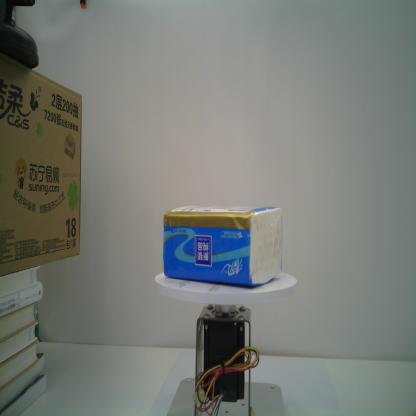Tissue: (161, 204, 284, 288)
